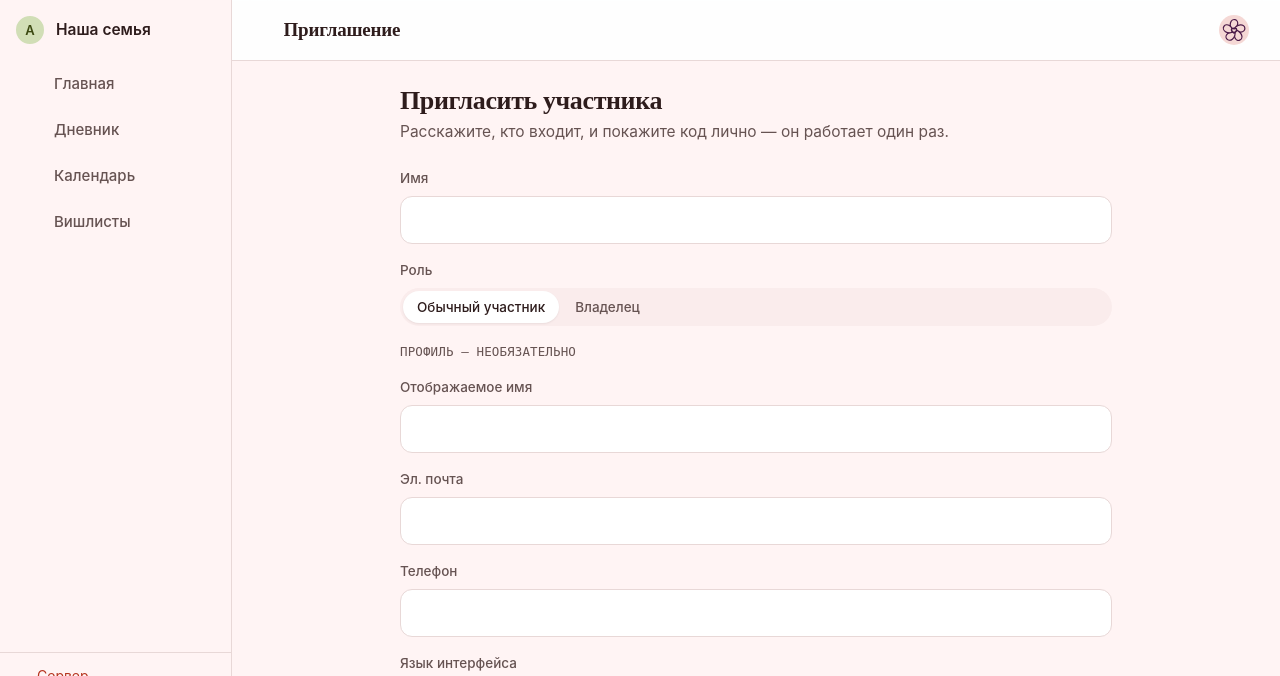
Test case: InviteMemberScreen › carries the note block and the closing mono line
Expected: the heading "Пригласить участника" is shown, [400,86,662,115]
Step 1. Type "Дима" into the field labelled "Имя" → (756, 220), box [400,196,1112,244]
(page scrolled)
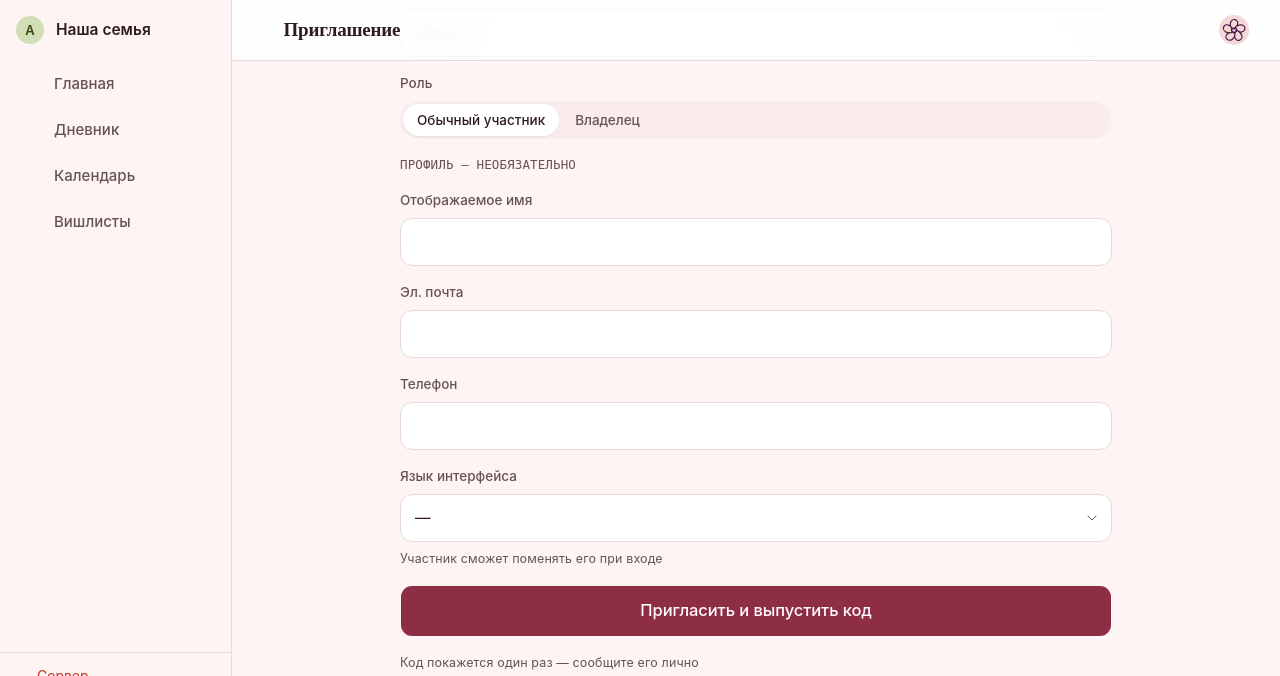
Step 2. Click the button "Пригласить и выпустить код" → (756, 611), box [400,585,1112,637]
(page scrolled)
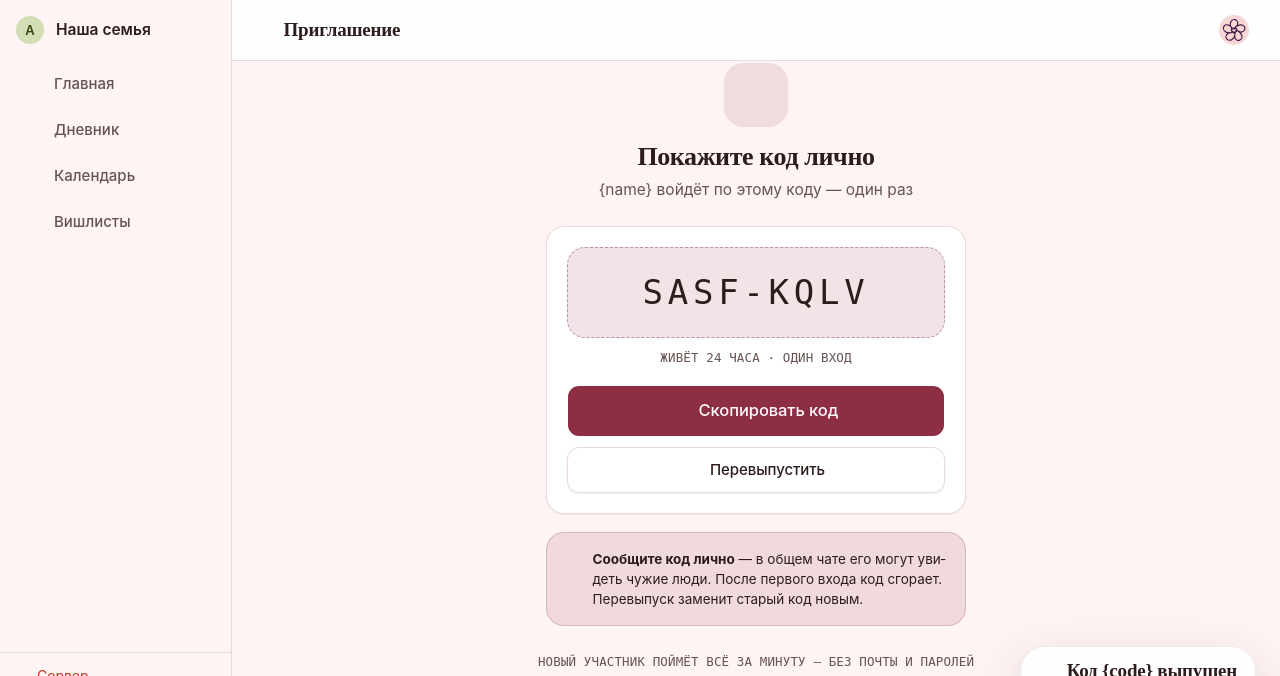
Now the text "SASF-KQLV" is shown, box [567,247,945,338]
Now the text "Сообщите код лично" is shown, box [592,550,735,566]
Now the text "Новый участник поймёт всё за минуту — без почты и паролей" is shown, box [538,654,974,669]
